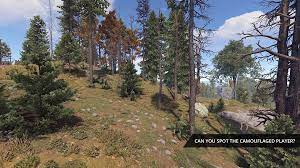tree: (267, 1, 290, 122), (184, 1, 200, 143), (166, 20, 183, 117), (58, 3, 78, 81), (152, 30, 169, 120), (25, 16, 50, 76), (288, 1, 300, 113), (85, 1, 100, 86), (59, 35, 70, 74)
